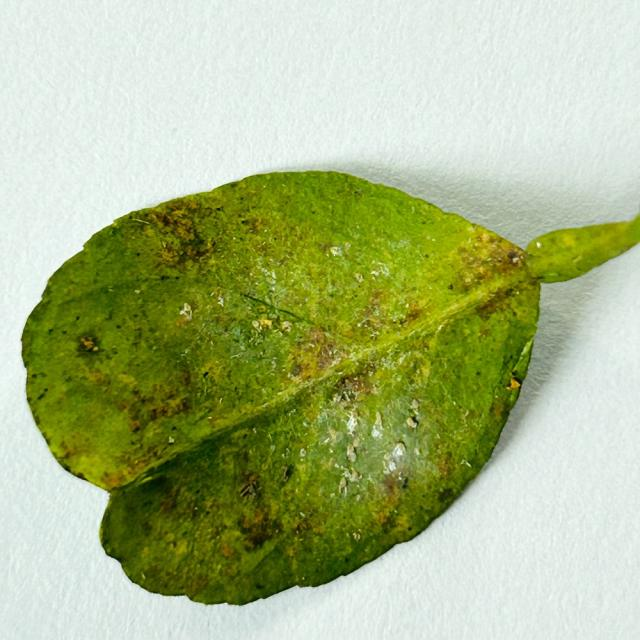Bacterial_Blight: (145, 207, 218, 266), (286, 327, 346, 381), (472, 282, 525, 321), (140, 391, 190, 424), (236, 215, 282, 247), (240, 513, 276, 548), (180, 226, 215, 258), (333, 377, 364, 403), (126, 324, 154, 352), (238, 472, 263, 500), (77, 332, 103, 358), (76, 332, 103, 355), (382, 473, 405, 498), (401, 305, 426, 326), (436, 451, 454, 478), (157, 245, 181, 265), (154, 212, 178, 230), (247, 217, 267, 233), (437, 486, 455, 503), (178, 368, 192, 387), (506, 249, 523, 264), (282, 465, 293, 482), (128, 419, 141, 432), (290, 363, 302, 377), (479, 325, 491, 338), (158, 274, 174, 281), (36, 390, 47, 400), (75, 472, 87, 481), (353, 188, 363, 197), (202, 370, 210, 378), (447, 283, 454, 290)
Lemon: (20, 171, 639, 609)
